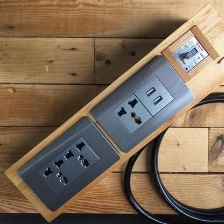three_eye_plug: (87, 53, 198, 155), (14, 117, 122, 215)
